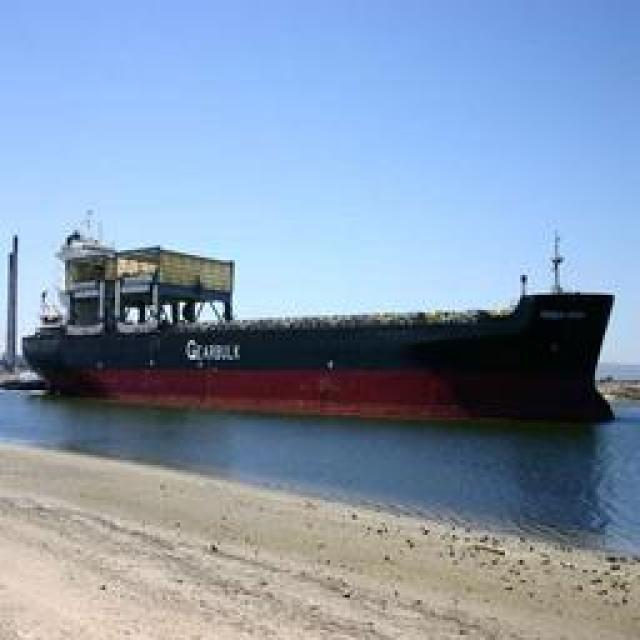ship2: (20, 229, 617, 428)
